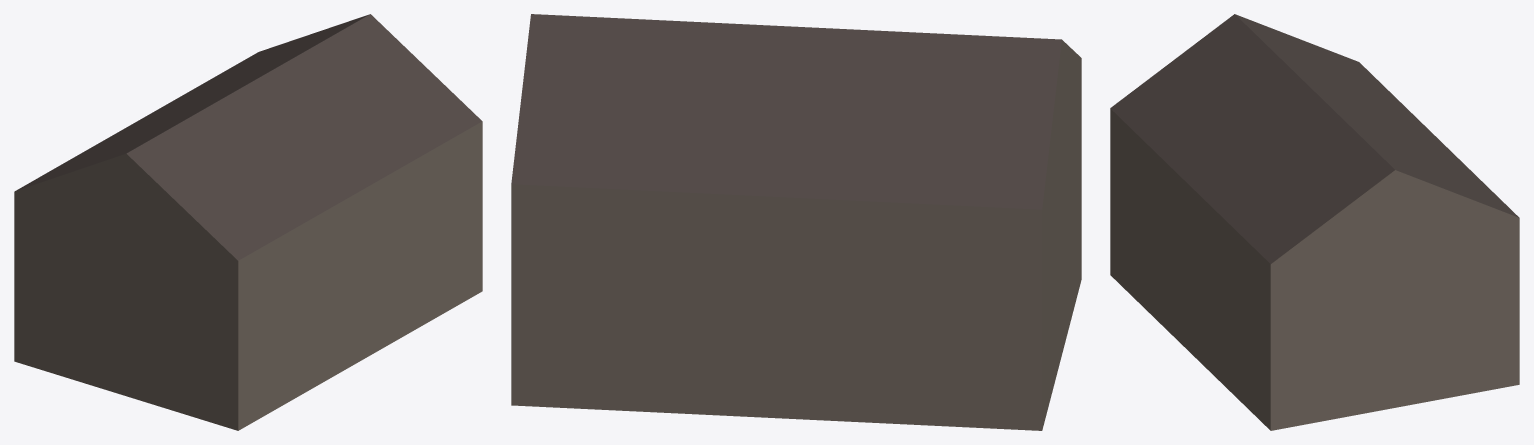
3 renders of one model, left to right at view 1: azimuth 30°, elevation 25°; view 2: azimuth 150°, elevation 25°; view 3: azimuth 270°, elevation 25°, orthographic. The views are drawn at different scales.
Visible parts, largest first — view 1: HP-w859457521; view 2: HP-w859457521; view 3: HP-w859457521.
Part boxes in pixels (box(x1,y1,x2,y2)): HP-w859457521: box(14, 14, 482, 430); HP-w859457521: box(511, 14, 1081, 430); HP-w859457521: box(1110, 14, 1519, 430).
Bounding box in the file's own units: 23.42 × 12.84 × 20.05.
